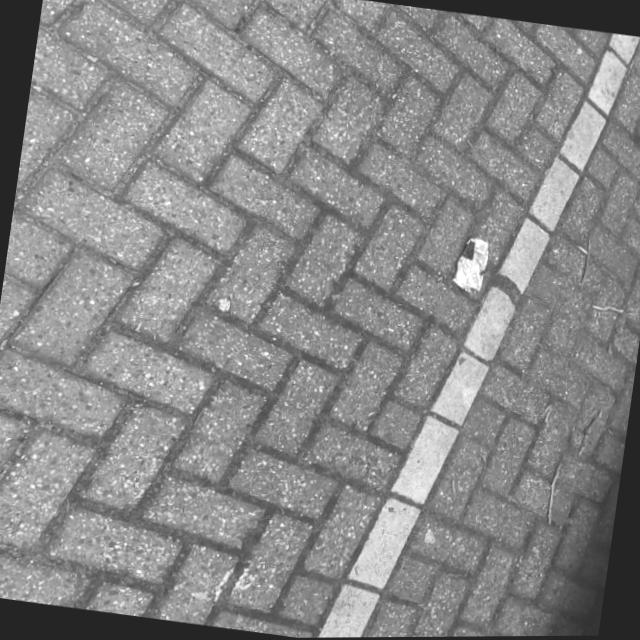Can-Metal: (448, 234, 492, 296)
